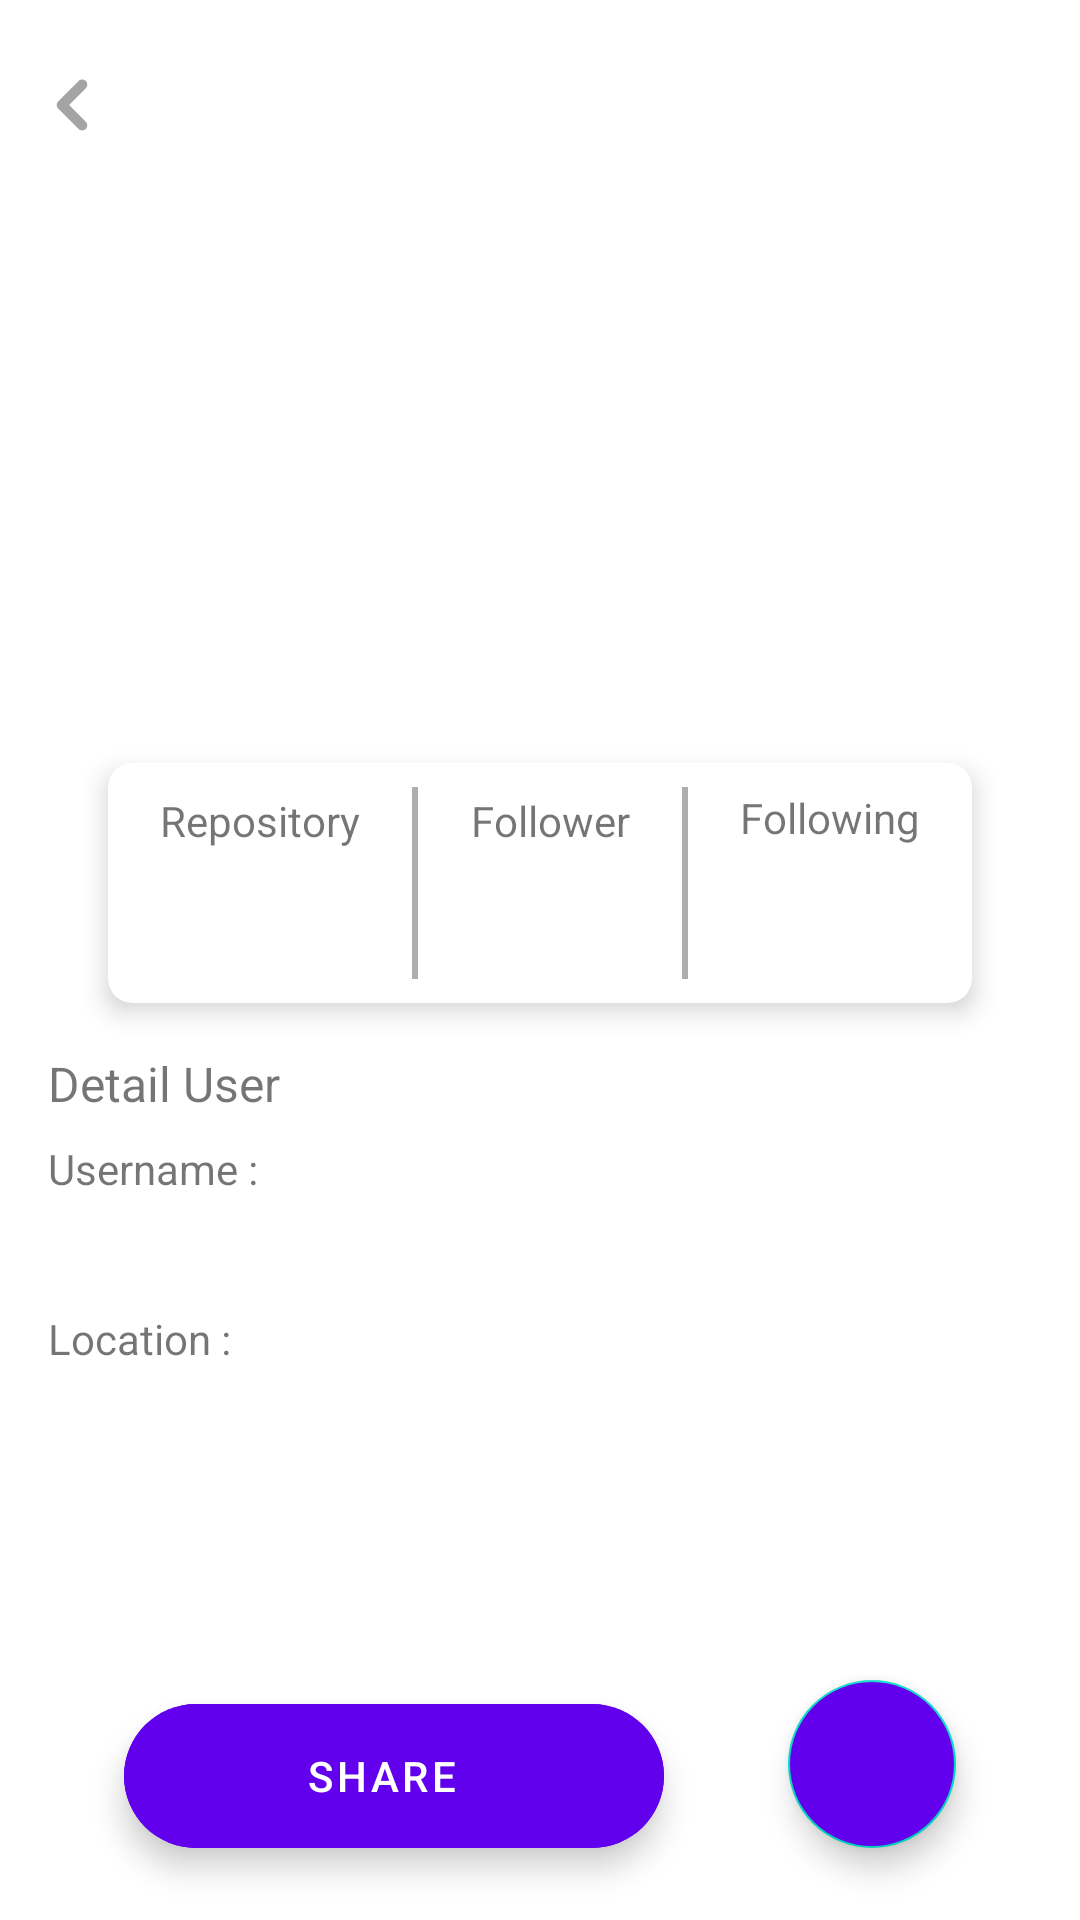

Named icons in this screenshot (1080 × 1920) and their bounding boxes, (x1, y1, x2, y2):
Button to back activity: (57, 79, 87, 131)
